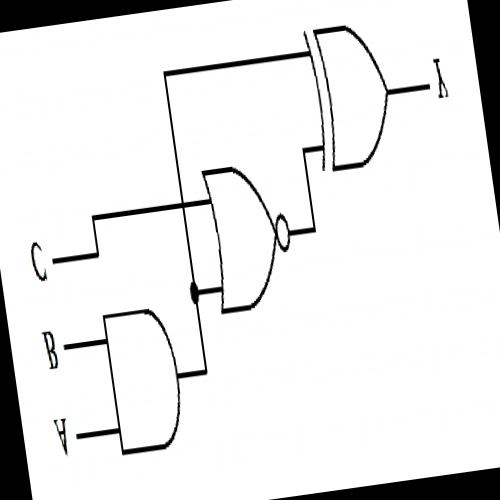and: (96, 293, 193, 466)
nor: (196, 148, 304, 326)
xor: (298, 11, 402, 180)
